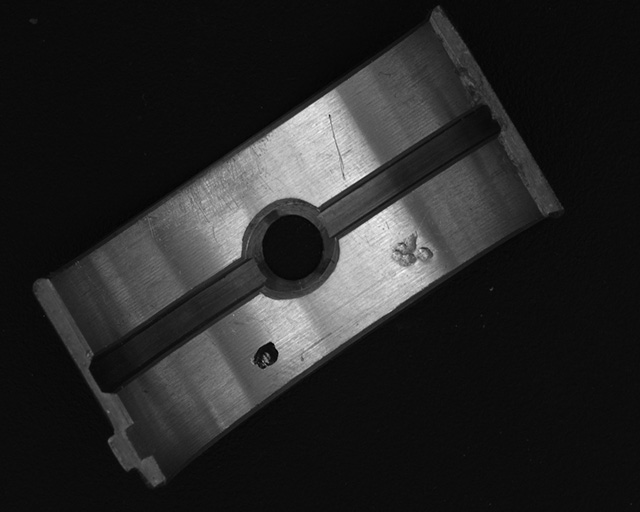blot: (252, 340, 279, 371)
bruise: (391, 230, 435, 268)
gap: (321, 104, 501, 234), (91, 261, 264, 392)
hole: (244, 201, 340, 298)
nick: (328, 114, 349, 188)
scratch: (127, 128, 277, 249)
